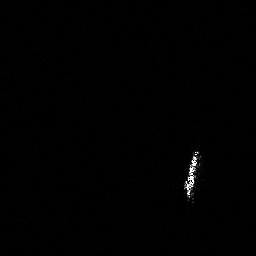ship: (179, 148, 202, 204)
